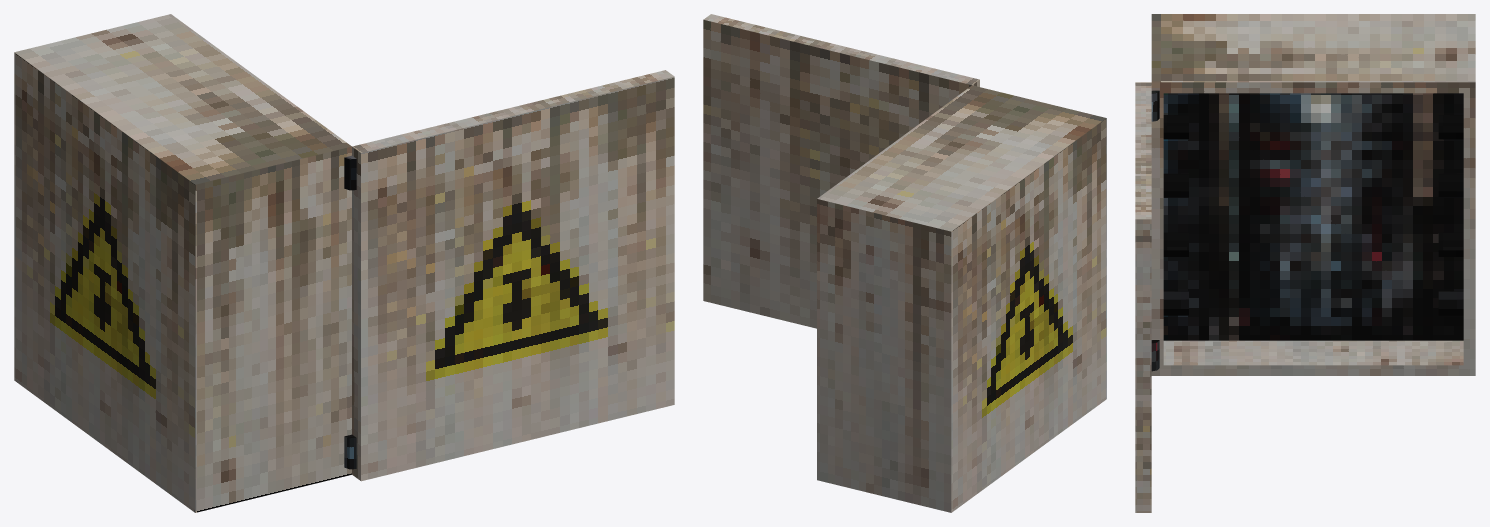
Rendered from fusebox.fbx.
3 renders of one model, left to right at view 1: azimuth 30°, elevation 25°; view 2: azimuth 150°, elevation 25°; view 3: azimuth 270°, elevation 25°, orthographic. The views are drawn at different scales.
Parts seen in each view (by area): view 1: Cube, Cylinder; view 2: Cube, Cylinder; view 3: Cube, Cylinder, Cylinder.001, Cylinder.002.
Boxes of the visible parts, x1,y1,x2,y2 form: Cube: (14,14,351,512); Cylinder: (344,70,674,481); Cube: (817,85,1106,512); Cylinder: (703,14,979,328); Cube: (1151,14,1475,375); Cylinder: (1135,82,1159,512); Cylinder.001: (1163,115,1188,315); Cylinder.002: (1438,115,1463,315).
Size of the model in its own units: 60 by 40 by 42.
2 materials, 2 textured.
